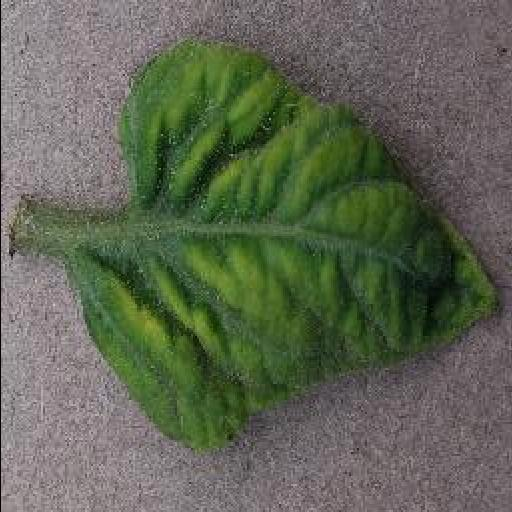disease_tomato: (66, 37, 500, 447)
